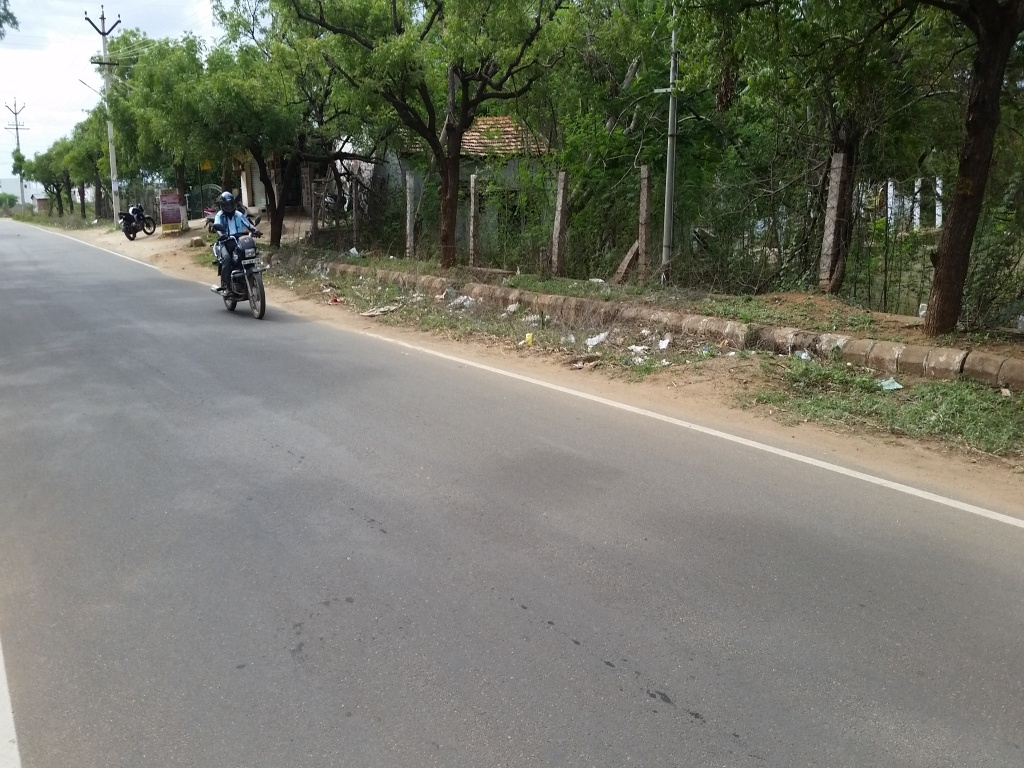biker: (194, 151, 285, 336)
helmet: (212, 176, 248, 226)
